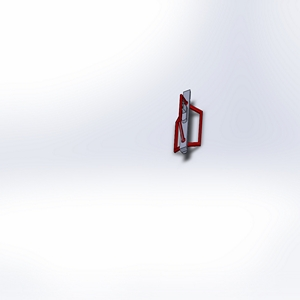submarine: (151, 84, 215, 155)
